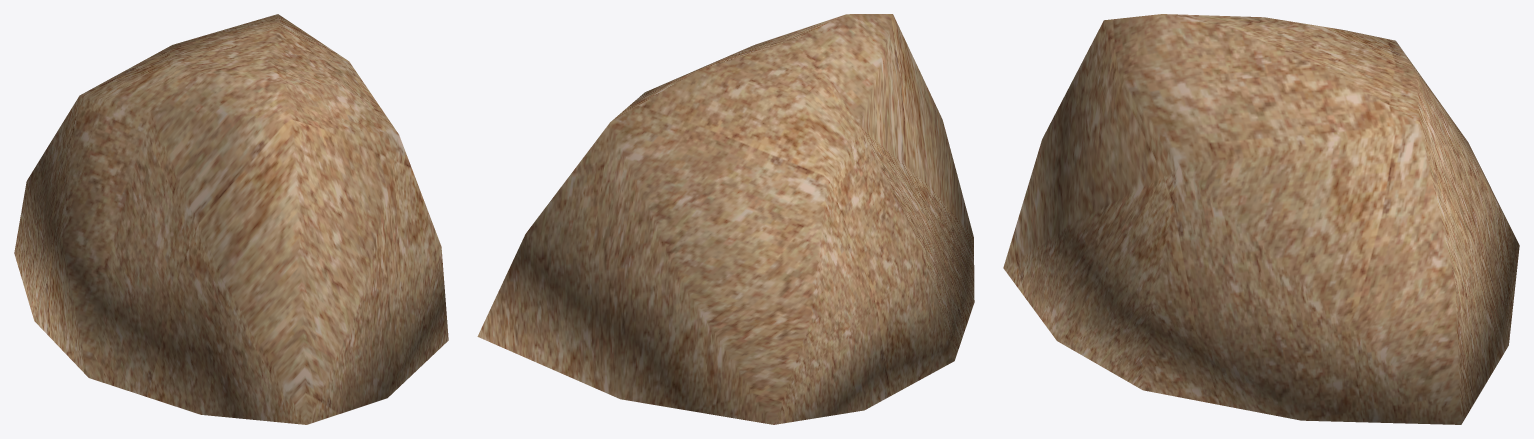
The model's file is rock_pebbleclump_a3_l0.fbx.
The picture shows the model from 3 angles, left to right: view 1: azimuth 30°, elevation 25°; view 2: azimuth 150°, elevation 25°; view 3: azimuth 270°, elevation 25°; orthographic projection. The views are drawn at different scales.
Visible parts, largest first — view 1: mesh_node; view 2: mesh_node; view 3: mesh_node.
Part boxes in pixels (left/top/right/bottom): mesh_node: left=14, top=14, right=448, bottom=424; mesh_node: left=477, top=14, right=974, bottom=424; mesh_node: left=1003, top=14, right=1519, bottom=424.
Bounding box in the file's own units: 0.2603 × 0.1924 × 0.2898.
